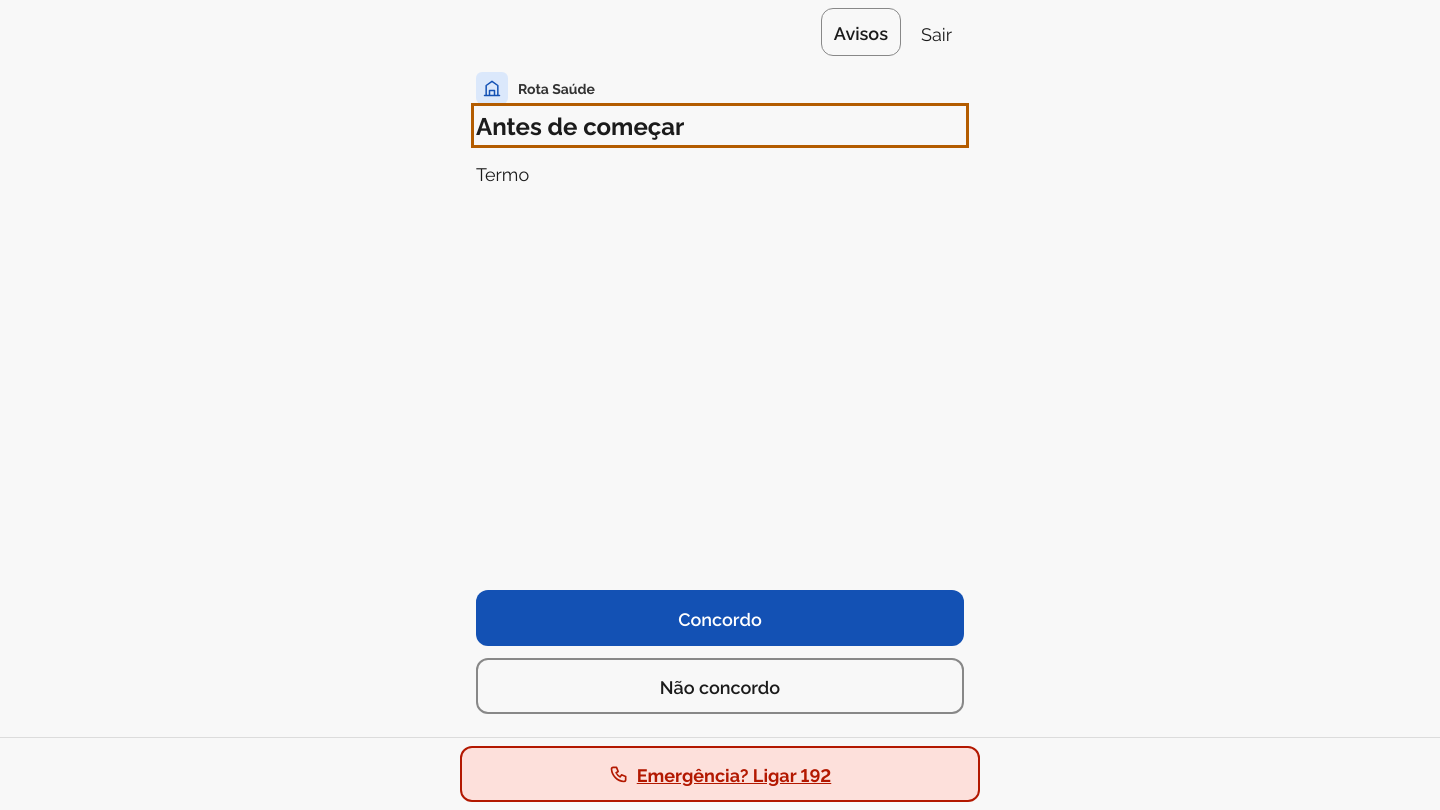
Scenario: Flow — Meus exames (módulo 21a) › sem exam_tracking na sessão: Minhas triagens como hoje
The width and height of the screenshot is (1440, 810).
Click the button "Concordo". click: (720,618)
box: [476,590,964,646]
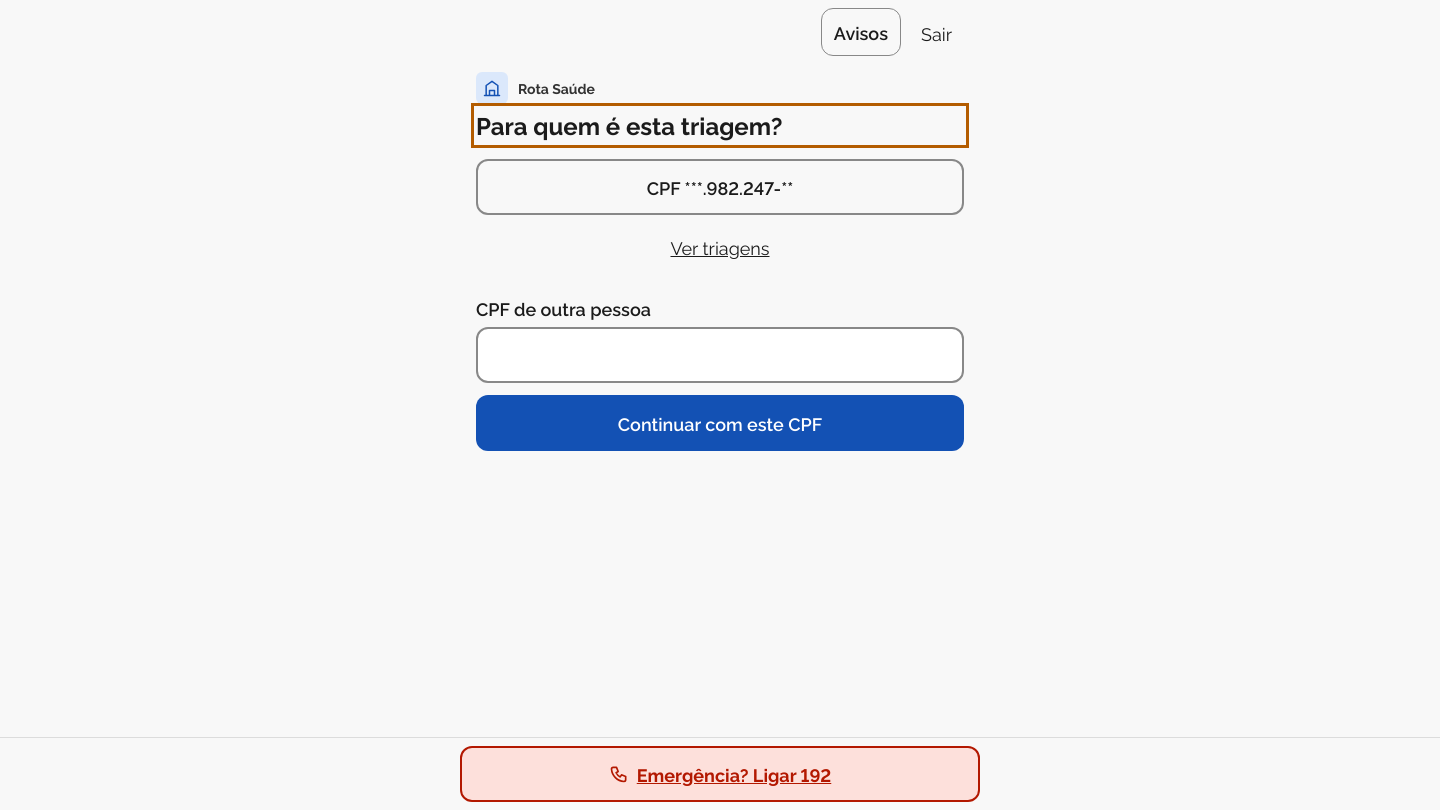
Click the button with aria-label "Ver triagens de ***.982.247-**". click: (720,247)
box: [476,223,964,271]
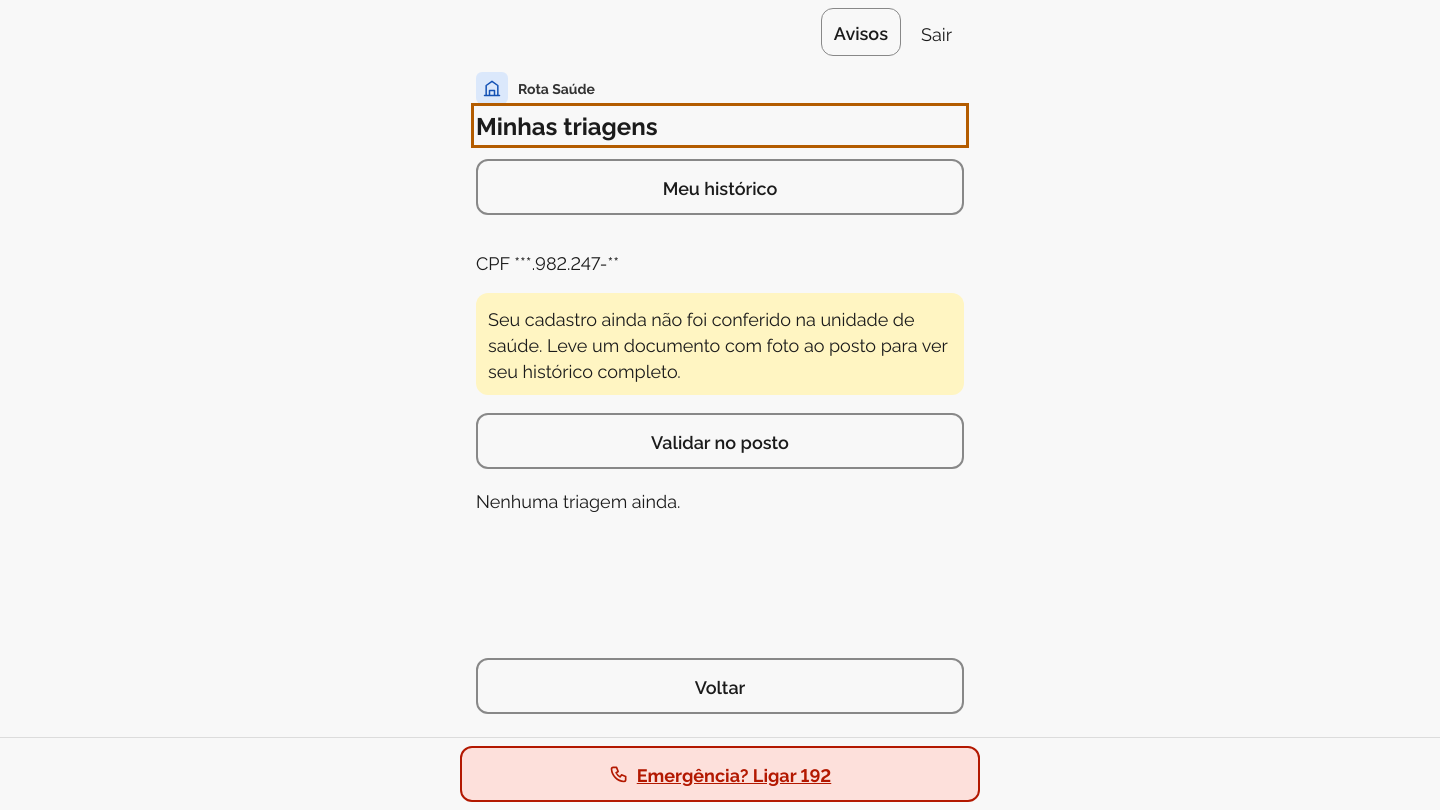
Check: the heading "Minhas triagens" is shown, box [476,108,658,141]
